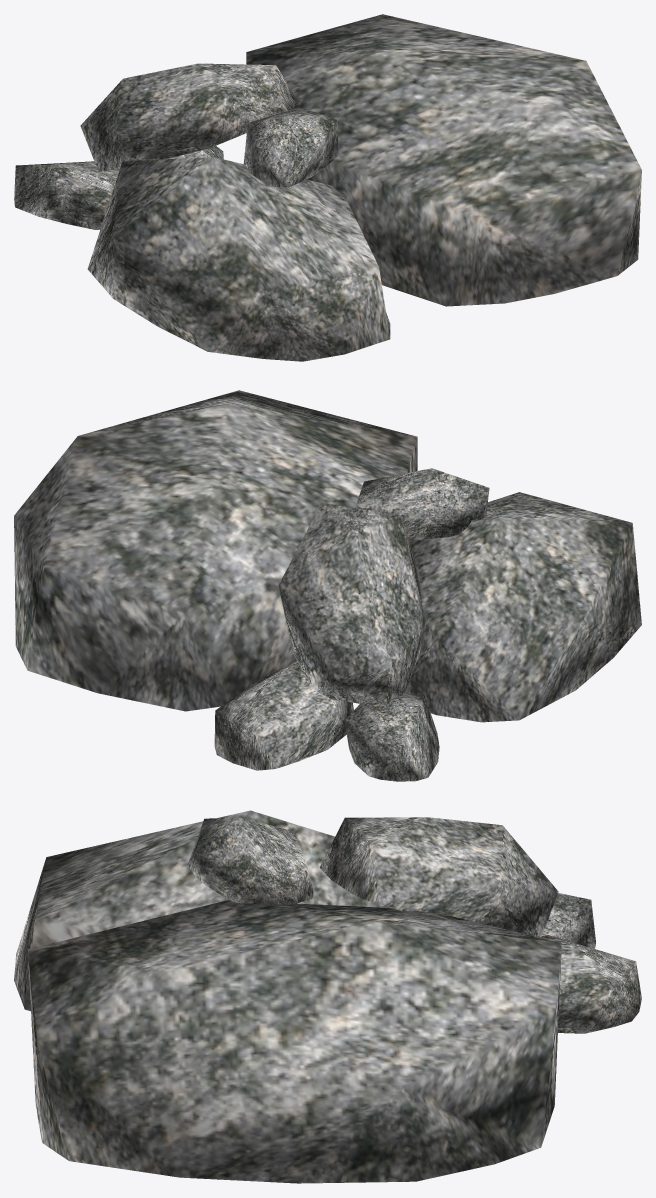
File: stoneGroup4_tex2.fbx
The picture shows the model from 3 angles, top to bottom: view 1: azimuth 30°, elevation 25°; view 2: azimuth 150°, elevation 25°; view 3: azimuth 270°, elevation 25°; orthographic projection. The views are drawn at different scales.
Visible parts, largest first — view 1: stoneGroup4_tex2Object; view 2: stoneGroup4_tex2Object; view 3: stoneGroup4_tex2Object.
Boxes of the visible parts, left/top/right/bottom form: stoneGroup4_tex2Object: left=14, top=14, right=641, bottom=361; stoneGroup4_tex2Object: left=14, top=390, right=641, bottom=781; stoneGroup4_tex2Object: left=14, top=810, right=641, bottom=1183.
Size of the model in its own units: 1.85 by 0.5896 by 1.78.
Materials: 1 (1 with a texture image).
